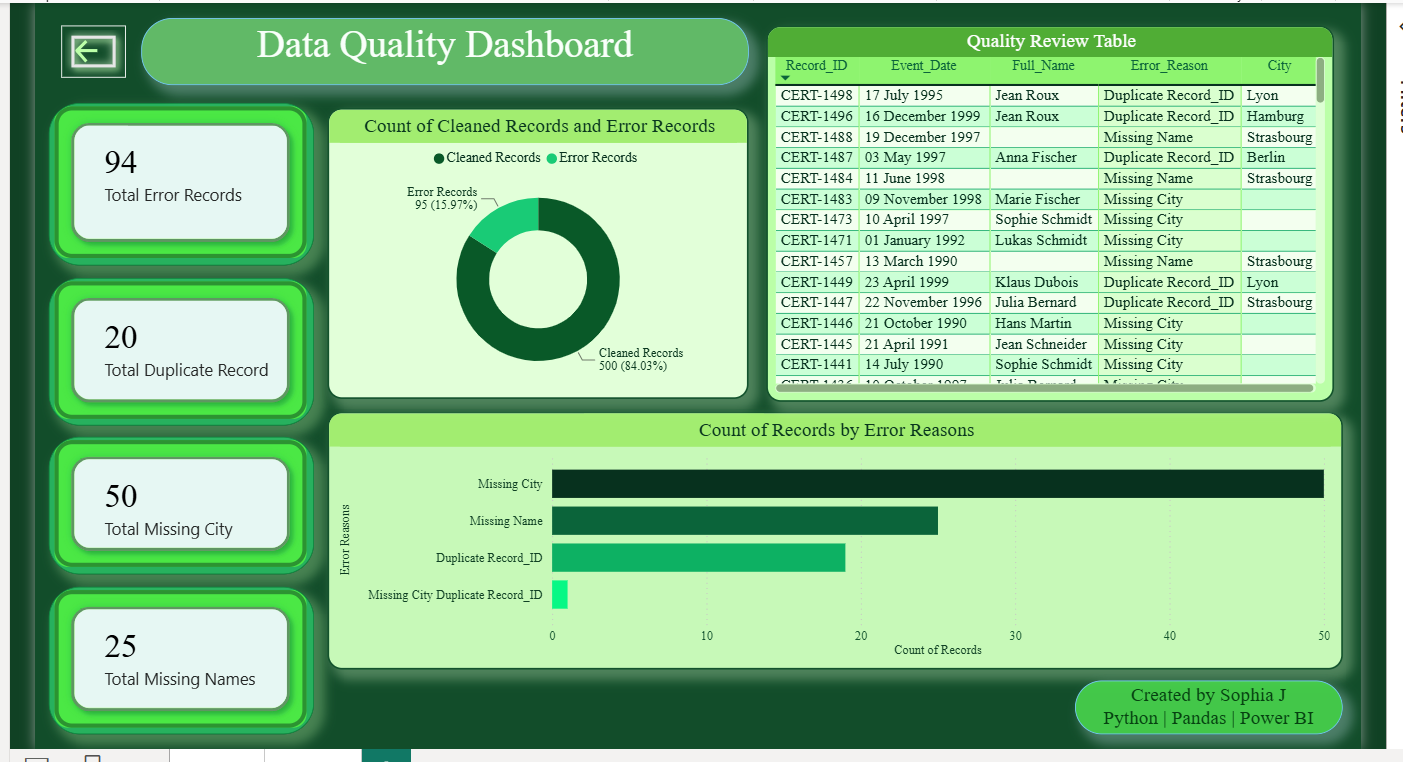

What the dashboard file says about the page in this screenshot:
{"tool":"powerbi","page":{"name":"Page 2","canvas":[1280,720],"ordinal":1},"visuals":[{"type":"cardVisual","fields":{"Data":["Count(quality_review.Record_ID)"]},"box":[13.3,96.5,255.8,156.8],"z":0},{"type":"cardVisual","fields":{"Data":["Count(quality_review.Record_ID)"]},"box":[13.3,265.4,255.8,142.4],"z":1000},{"type":"cardVisual","fields":{"Data":["Count(quality_review.Record_ID)"]},"box":[13.3,418.6,255.8,132.7],"z":2000},{"type":"cardVisual","fields":{"Data":["Count(quality_review.Record_ID)"]},"box":[13.3,563.4,255.8,142.4],"z":3000},{"type":"barChart","title":"Count of Records by Error Reasons","fields":{"Category":["quality_review.Error_Reason"],"Y":["CountNonNull(quality_review.Record_ID)"]},"box":[282.3,394.5,979.6,248.5],"z":4000},{"type":"donutChart","title":"Count of Cleaned Records and  Error Records","fields":{"Y":["CountNonNull(cleaned_vital_records.Record_ID)","CountNonNull(quality_review.Error_Reason)"]},"box":[282.3,101.3,406.6,281.1],"z":5000},{"type":"tableEx","title":"Quality Review Table","fields":{"Values":["quality_review.Record_ID","quality_review.Event_Date","quality_review.Full_Name","quality_review.Error_Reason","quality_review.City"]},"box":[705.8,21.7,547.7,363.1],"z":6000},{"type":"textbox","box":[102.5,14.5,586.3,65.1],"z":7000},{"type":"actionButton","box":[25.3,21.7,62.7,50.7],"z":8000},{"type":"textbox","box":[1003.8,653.9,258.2,51.9],"z":9000}]}

Visuals, with their boxes on the page's 1280x720 design canvas (x1, y1, x2, y2). These are canvas units, not pixel positions in the 1403x762 screenshot, which may show the page scaled, cropped or inside an application window:
cardVisual - Count(quality_review.Record_ID): bbox(13, 96, 269, 253)
cardVisual - Count(quality_review.Record_ID): bbox(13, 265, 269, 408)
cardVisual - Count(quality_review.Record_ID): bbox(13, 419, 269, 551)
cardVisual - Count(quality_review.Record_ID): bbox(13, 563, 269, 706)
"Count of Records by Error Reasons" barChart: bbox(282, 394, 1262, 643)
"Count of Cleaned Records and  Error Records" donutChart: bbox(282, 101, 689, 382)
"Quality Review Table" tableEx: bbox(706, 22, 1254, 385)
textbox: bbox(102, 14, 689, 80)
actionButton: bbox(25, 22, 88, 72)
textbox: bbox(1004, 654, 1262, 706)
